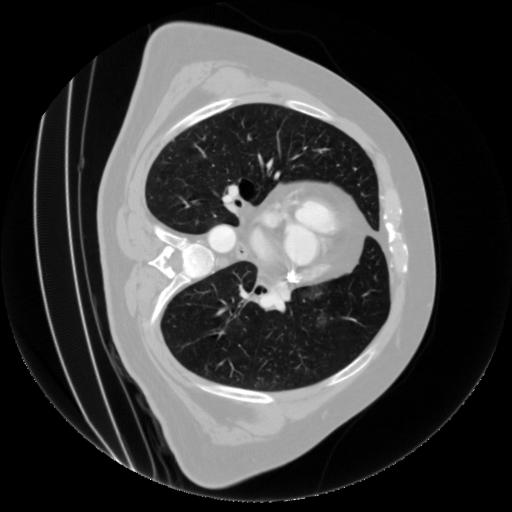nodule: (302, 281, 328, 307)
